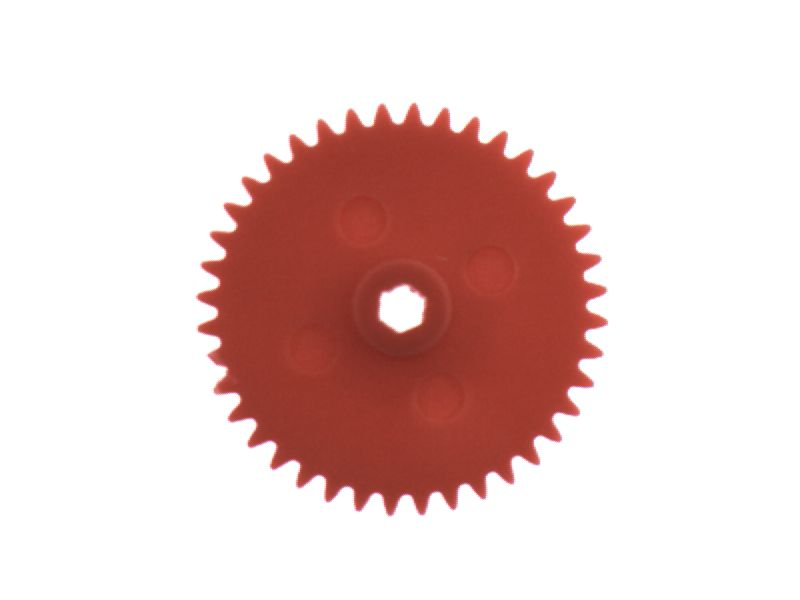defect_break: (188, 342, 236, 377)
